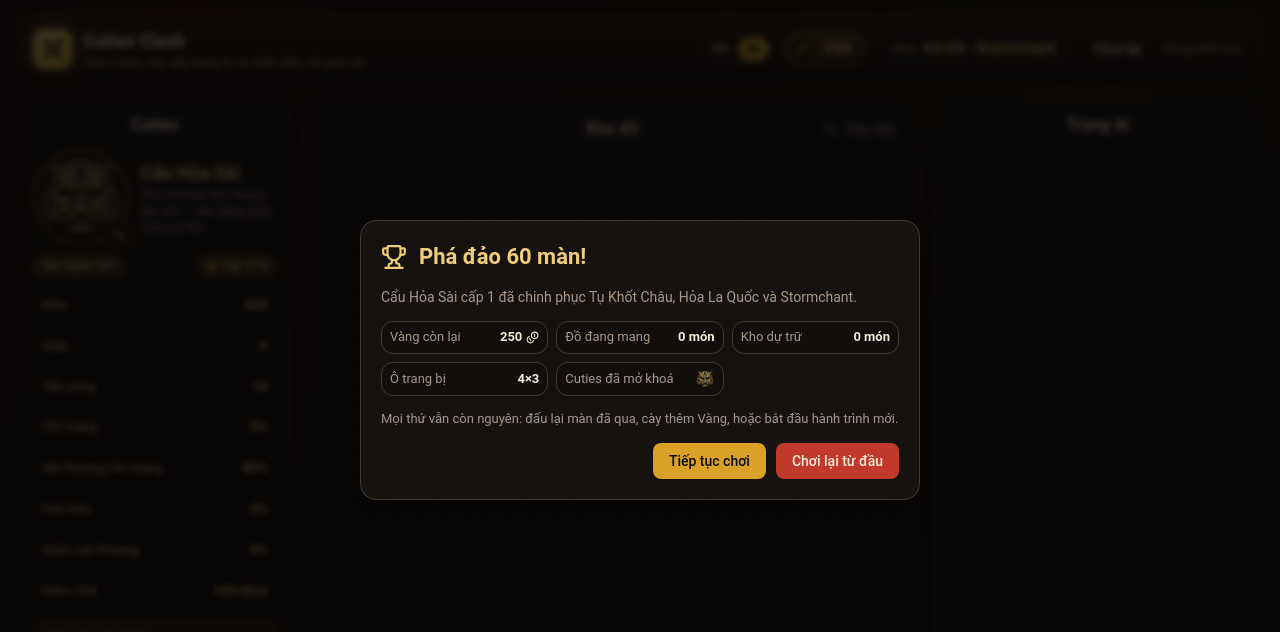
it: victory screen after the 60th stage › "Tiếp tục chơi" closes the screen and keeps every bit of progress
Click the button "Tiếp tục chơi".
click(709, 461)  # box [653, 443, 766, 479]
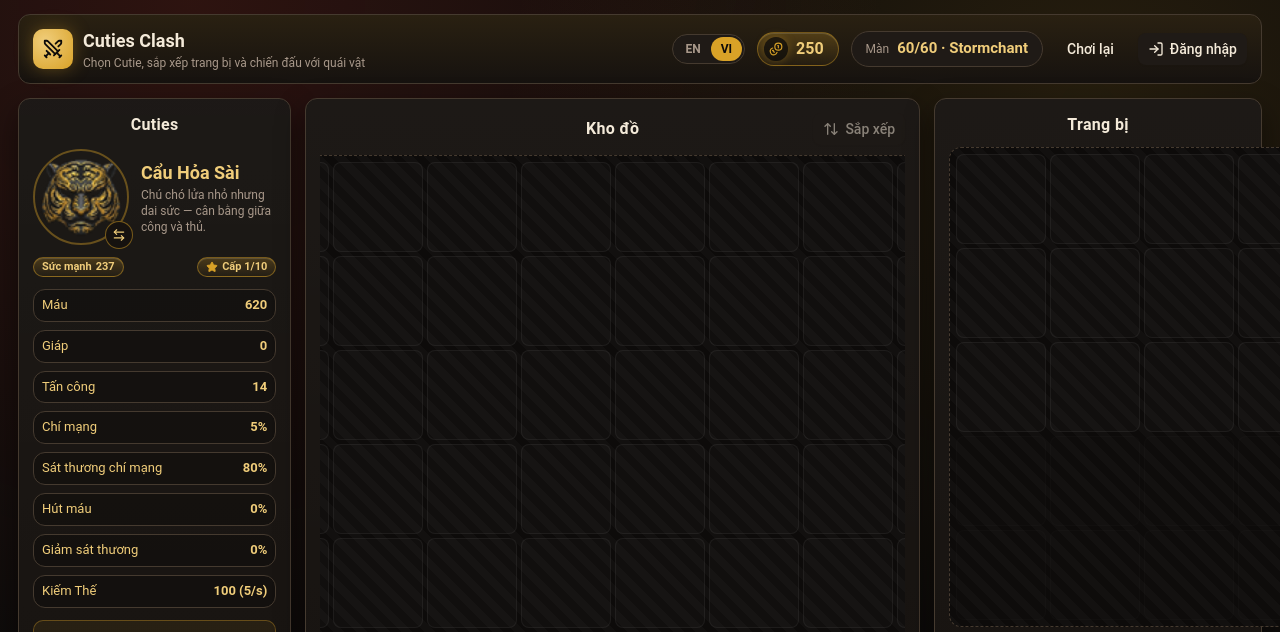
Expected: the heading "Phá đảo" is gone
